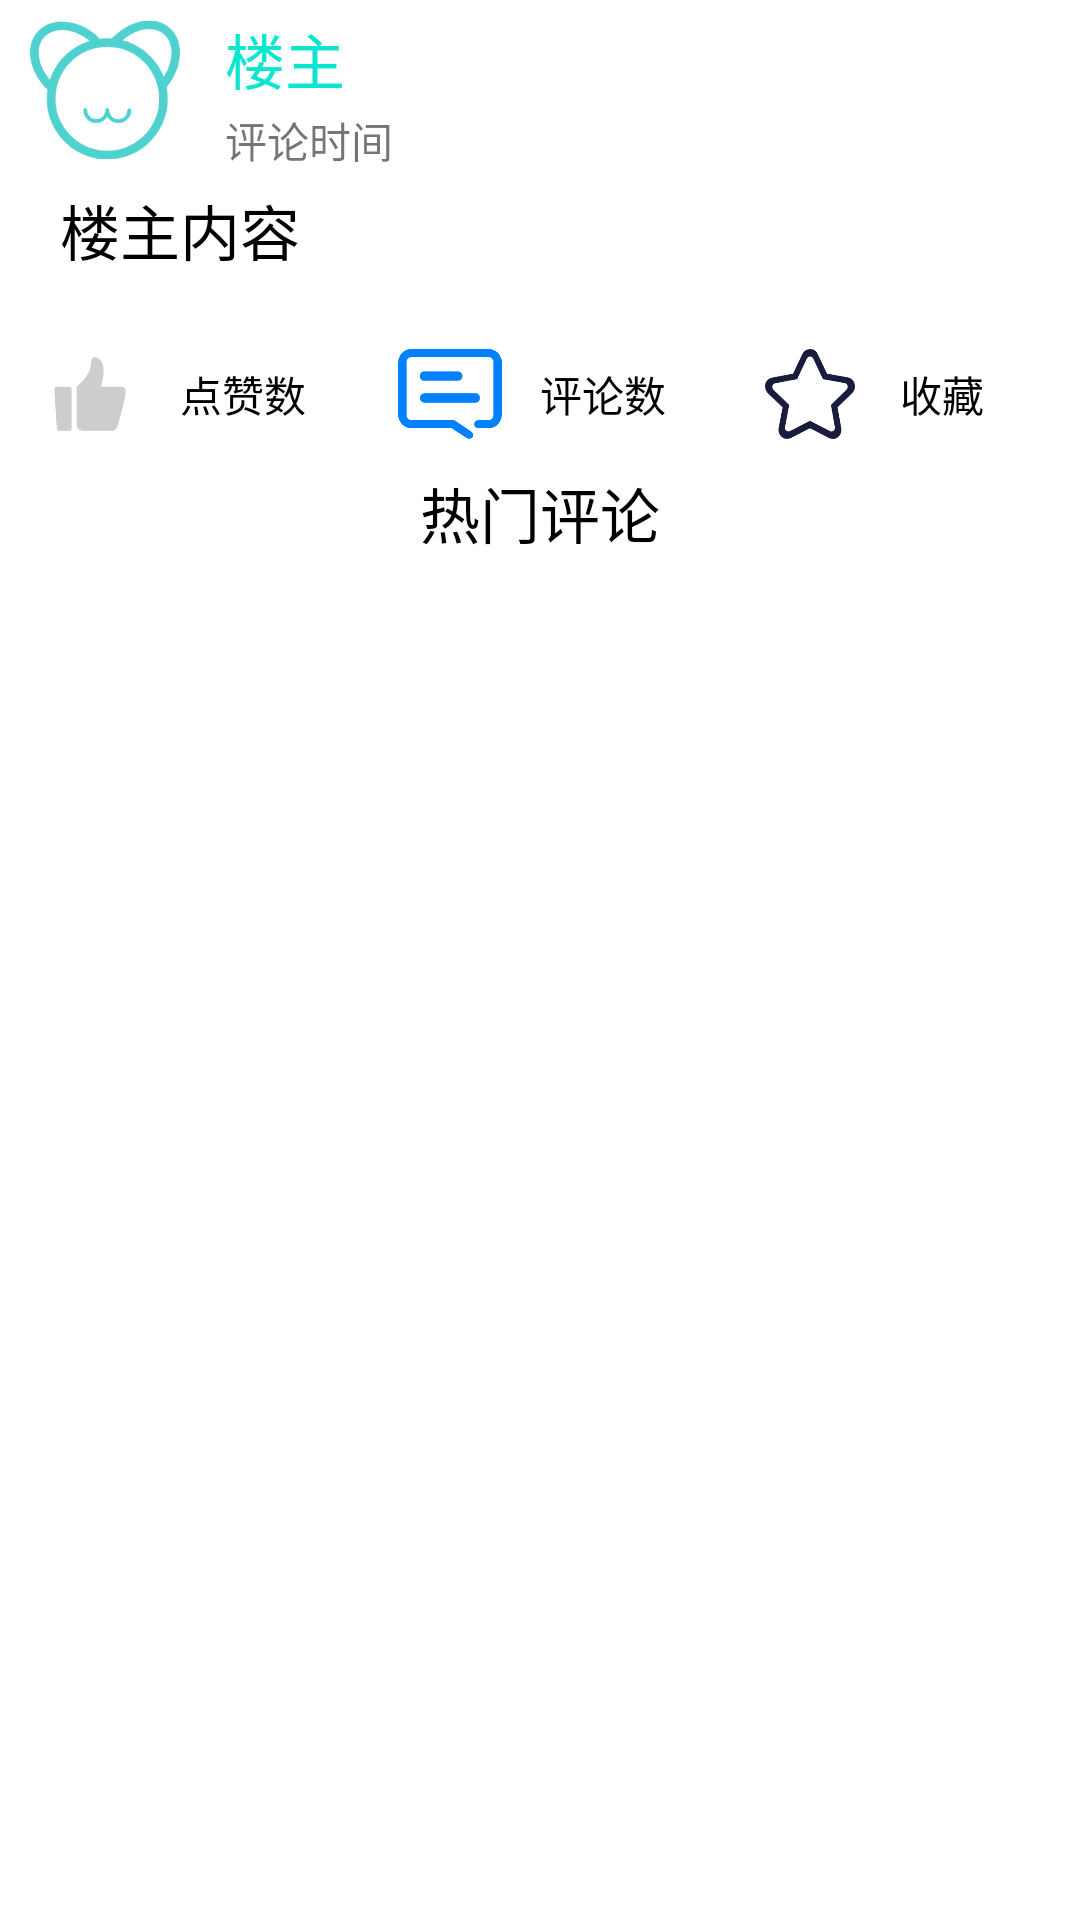

Where to tap for icons on this 1080 x 1920 app screen, as (x=x, y=y):
dianzanno: (x=90, y=394)
maittoux: (x=105, y=90)
pinglun: (x=450, y=394)
shoucangno: (x=810, y=394)
